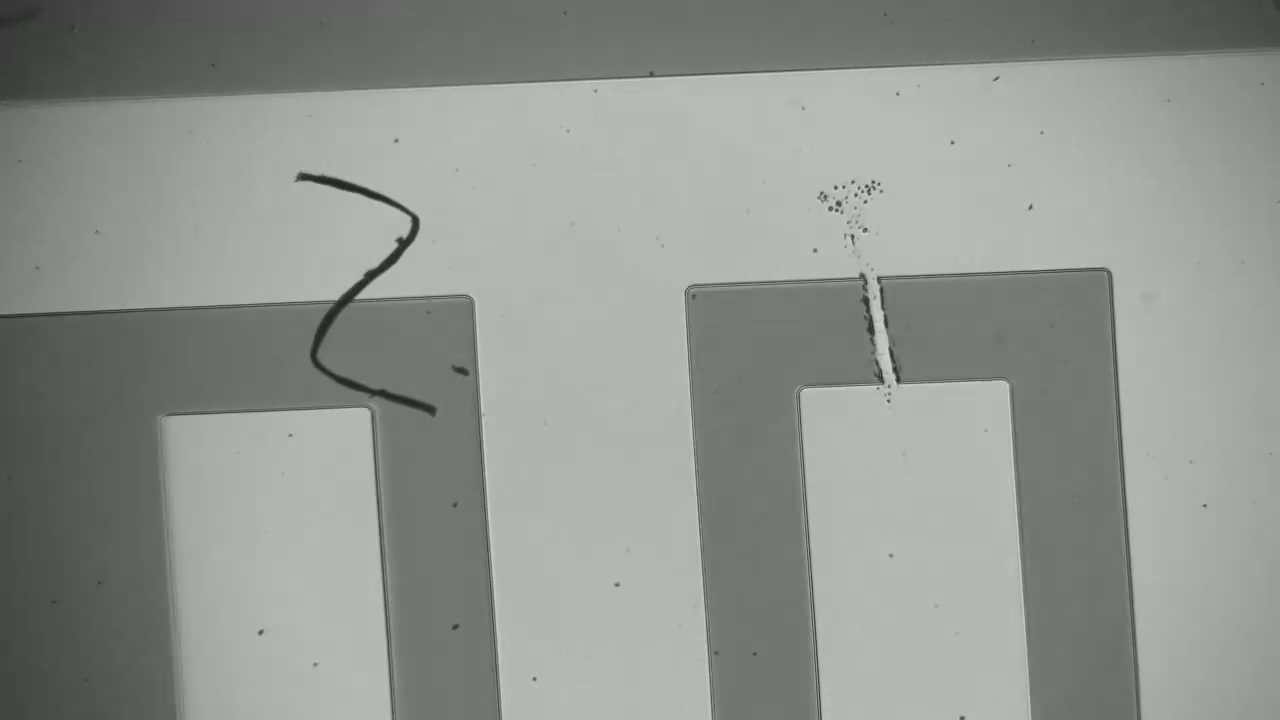Short_circuit: (840, 262, 925, 405)
